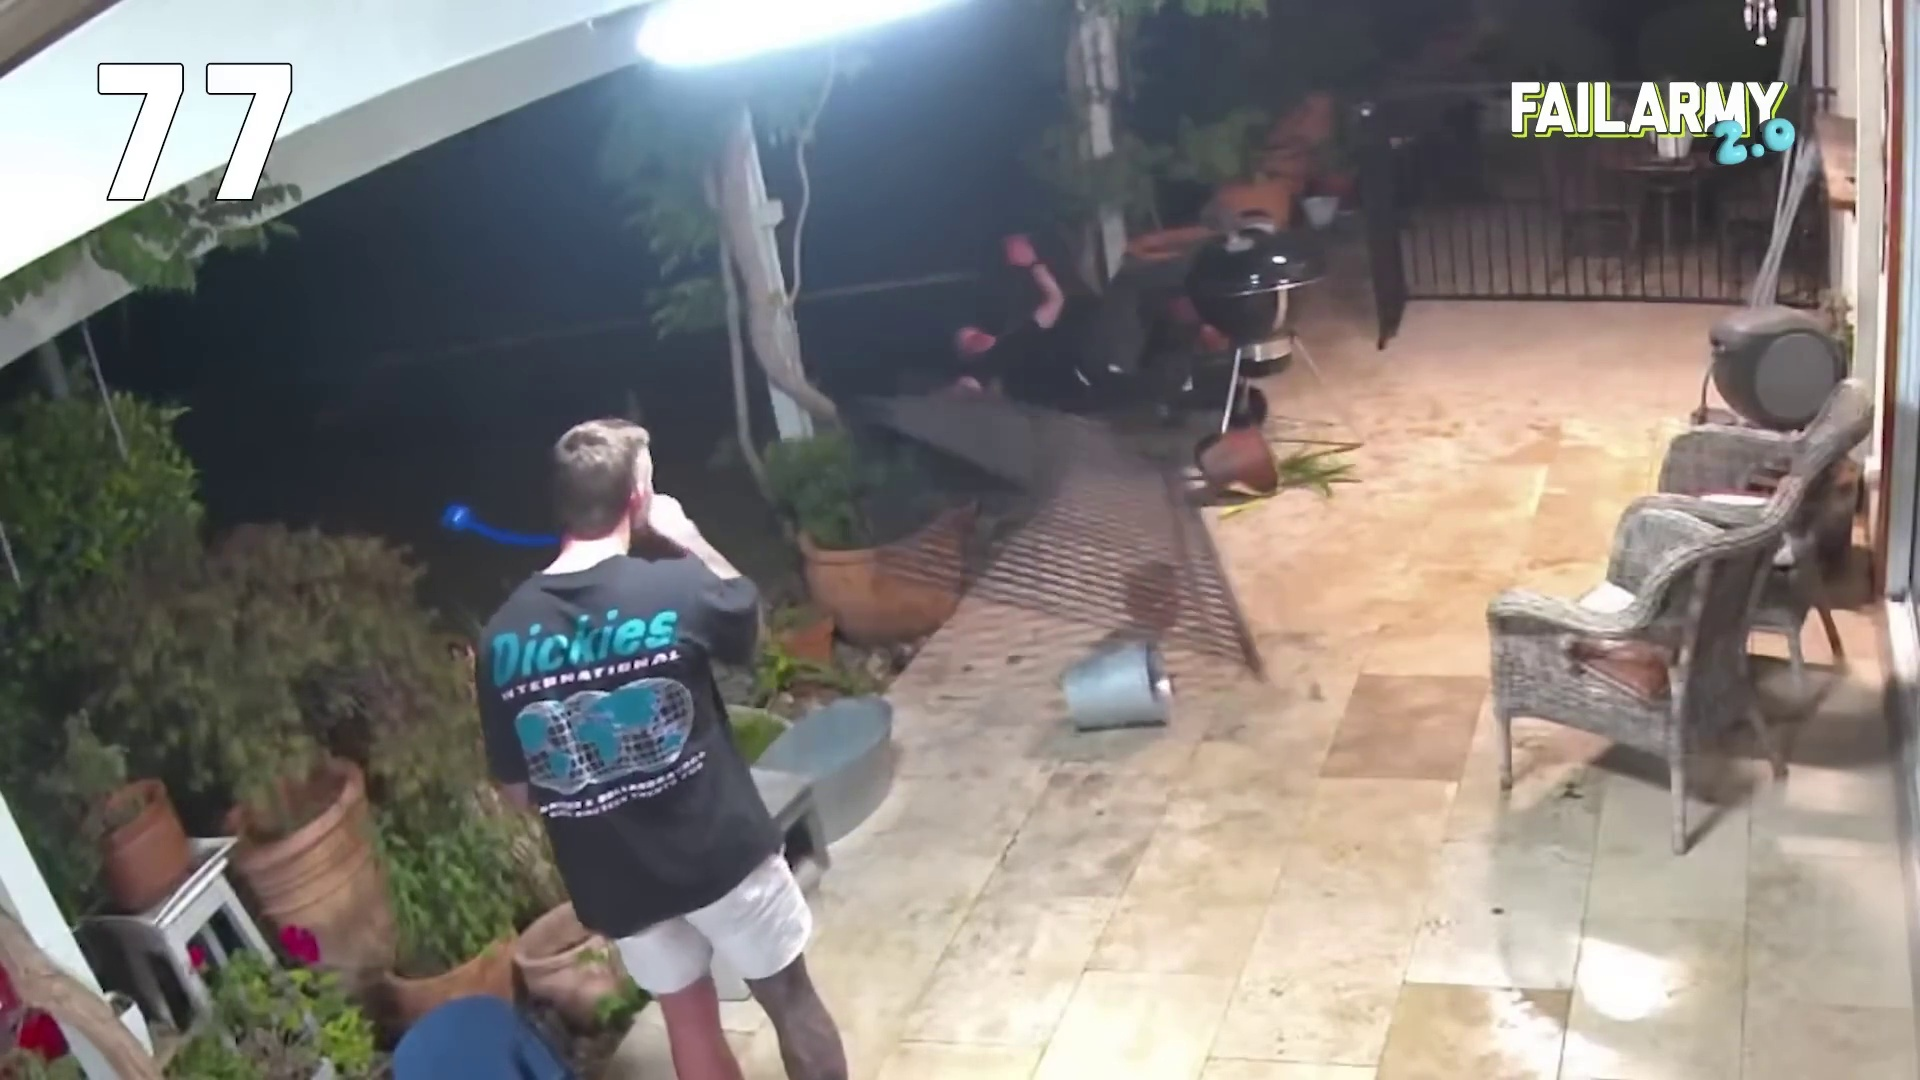fall: (860, 191, 1298, 545)
